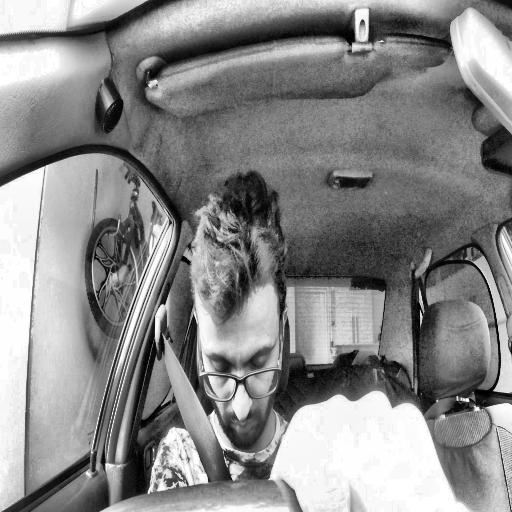drowsy: (189, 169, 290, 453)
